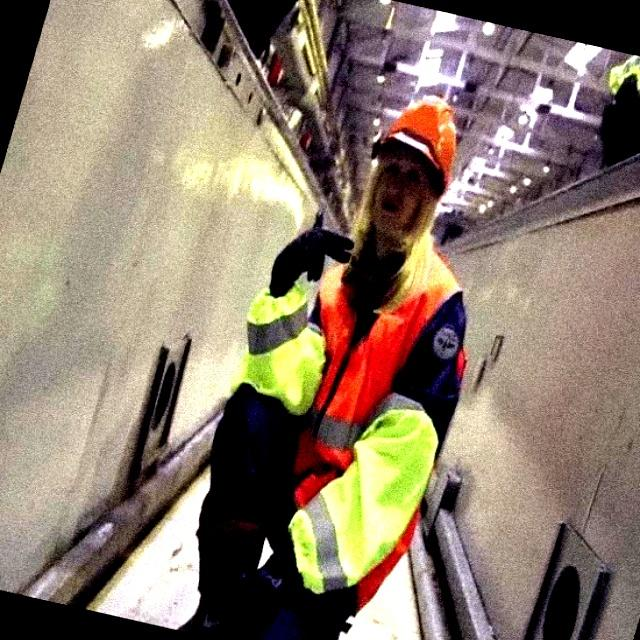Capacete: (373, 96, 455, 188)
Colete: (236, 252, 459, 607), (608, 55, 639, 95)
Pessoa: (182, 97, 465, 639), (600, 56, 639, 166)
